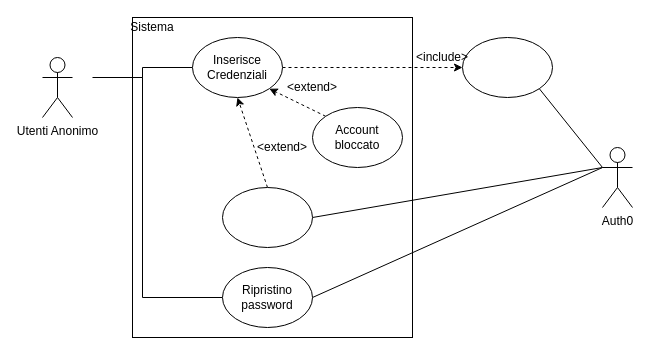
The diagram is 650 pixels wide and 355 high, and some of its shapes have lost their labels. The shapes that lost their labels are listed below. From the top down, each one's box as (x1, y1, x2, y2) in pixels, then its label:
(462, 36, 552, 98): Verifica credenziali
(222, 186, 312, 248): Inserire codice OTP
